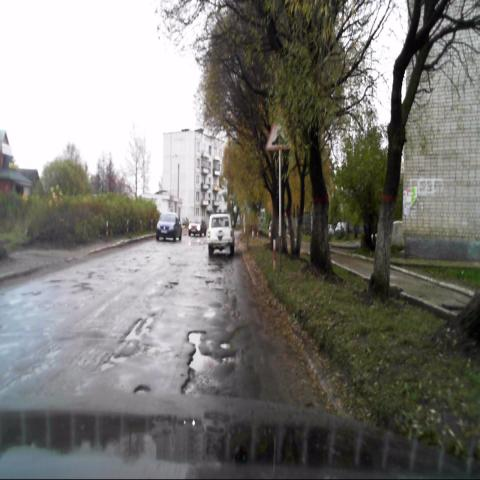1_17: (264, 106, 292, 150)
